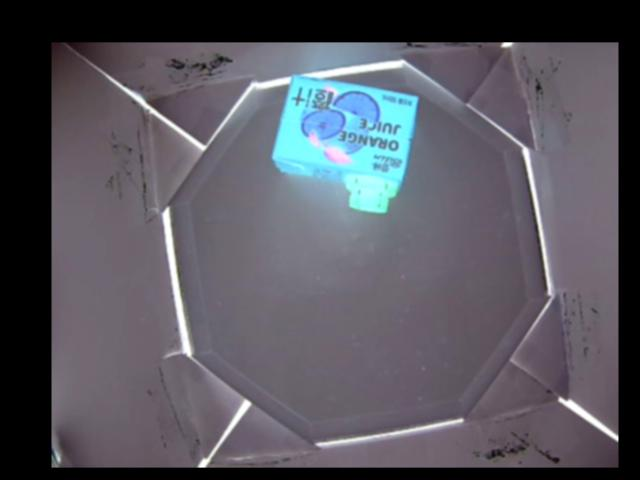Bottle: (272, 72, 419, 215)
